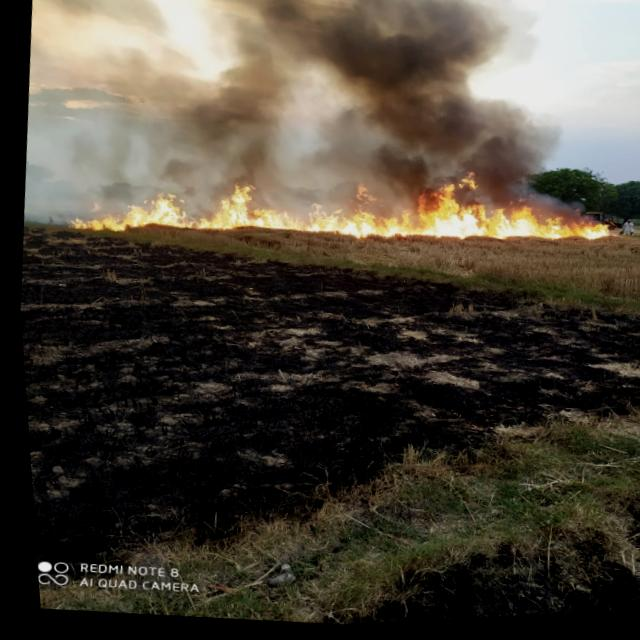Fire: (59, 132, 619, 285)
Smoke: (12, 0, 584, 238)
